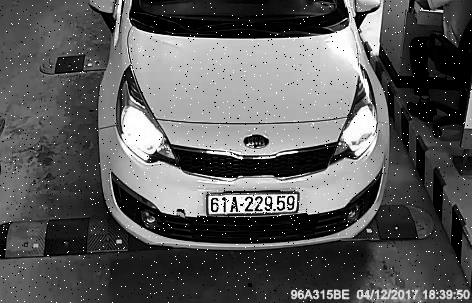License-plate: (199, 190, 310, 225)
